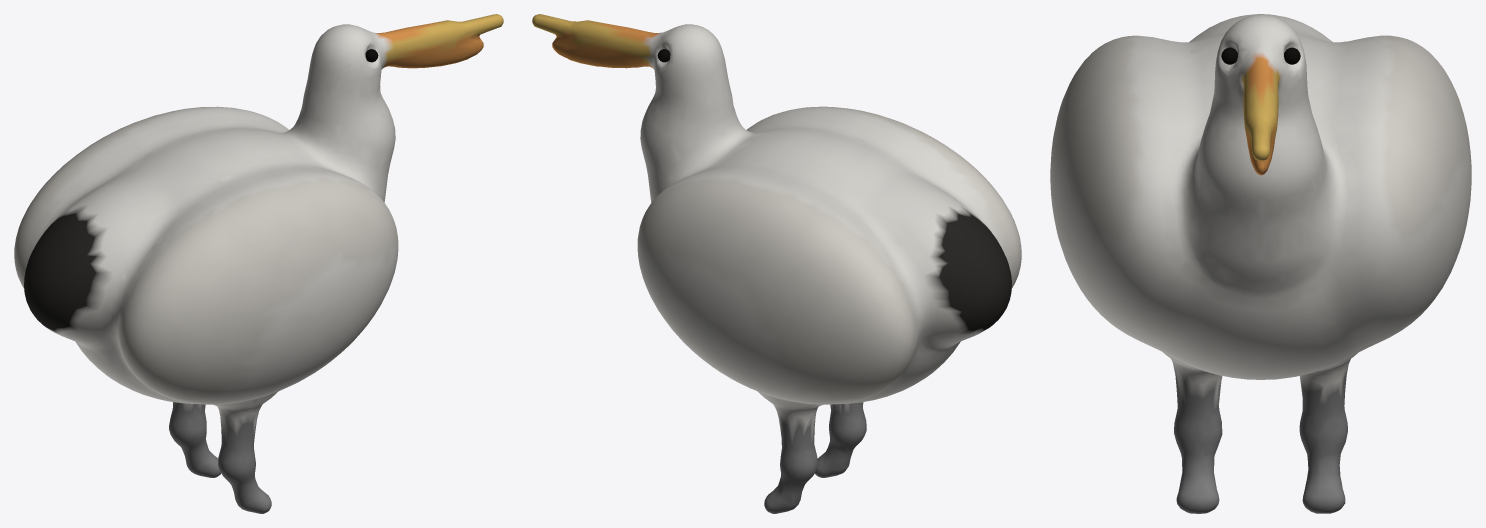
Rendered from pelican.glb.
3 views of the same model, side by side, from view 1: azimuth 30°, elevation 25°; view 2: azimuth 150°, elevation 25°; view 3: azimuth 270°, elevation 25° (orthographic). The views are drawn at different scales.
Visible parts, largest first — view 1: pelican; view 2: pelican; view 3: pelican.
Boxes of the visible parts, bbox=[...] form: pelican: bbox=[14, 14, 503, 513]; pelican: bbox=[532, 14, 1021, 513]; pelican: bbox=[1050, 14, 1471, 513].
Size of the model in its own units: 1.55 by 1.38 by 0.9348.
